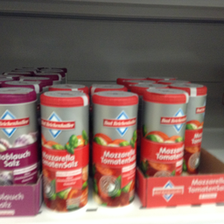spices: (39, 89, 90, 213), (92, 89, 139, 206), (142, 87, 188, 176), (1, 86, 38, 184)
